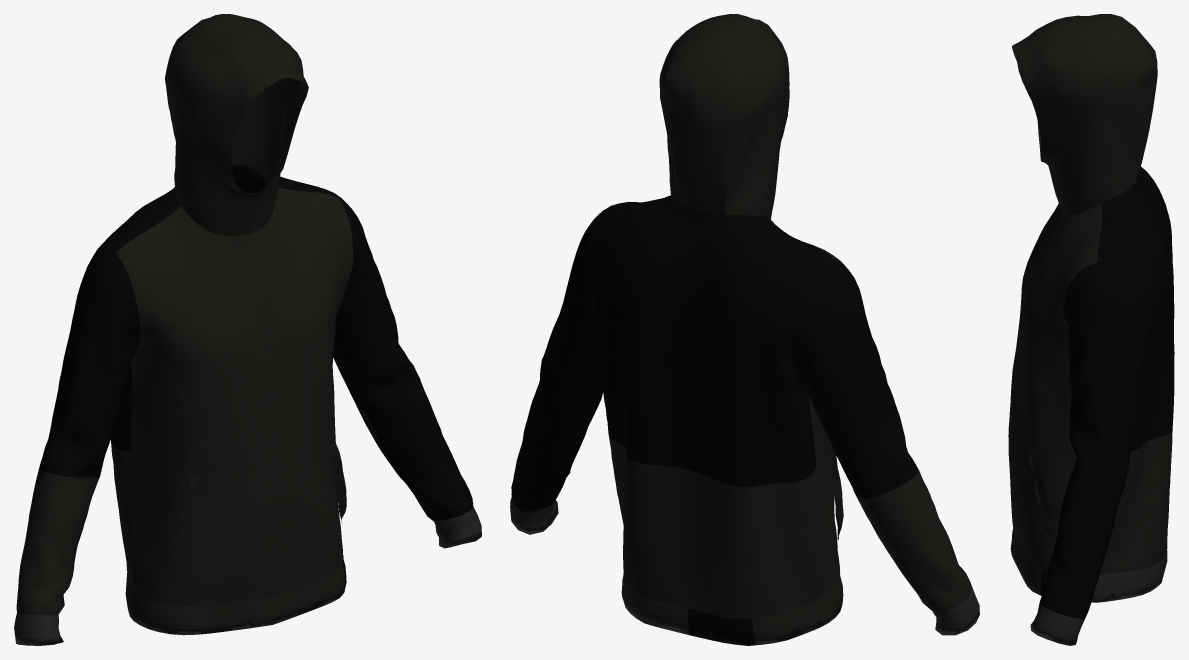
The model's file is SWEATSHIRT1.gltf.
3 renders of one model, left to right at view 1: azimuth 30°, elevation 25°; view 2: azimuth 150°, elevation 25°; view 3: azimuth 270°, elevation 25°, orthographic. The views are drawn at different scales.
Parts seen in each view (by area): view 1: Pattern_1301135, Pattern_1302524, Pattern_1302525, Pattern_1724221, Pattern_1303223, Pattern_1724222, Pattern_1299746, Pattern_1725890, Pattern_1303224, Pattern_1303225, Pattern_3171371, Pattern_3171373; view 2: Pattern_1299746, Pattern_1302524, Pattern_1302525, Pattern_1725890, Pattern_1724221, Pattern_1303223, Pattern_1301135, Pattern_1724222, Pattern_1303224, Pattern_1303225; view 3: Pattern_1302525, Pattern_1301135, Pattern_1299746, Pattern_1724222, Pattern_1725890, Pattern_1303223, Pattern_1303225.
Part boxes in pixels (x1,y1,x2,y2): Pattern_1301135: [116, 187, 352, 605]; Pattern_1302524: [16, 247, 140, 615]; Pattern_1302525: [333, 194, 473, 521]; Pattern_1724221: [165, 33, 263, 236]; Pattern_1303223: [125, 559, 346, 635]; Pattern_1724222: [231, 24, 308, 234]; Pattern_1299746: [96, 167, 339, 590]; Pattern_1725890: [178, 14, 296, 89]; Pattern_1303224: [14, 613, 63, 645]; Pattern_1303225: [434, 507, 481, 548]; Pattern_3171371: [159, 476, 199, 568]; Pattern_3171373: [329, 442, 346, 523]; Pattern_1299746: [585, 195, 836, 619]; Pattern_1302524: [802, 261, 971, 612]; Pattern_1302525: [511, 210, 603, 512]; Pattern_1725890: [666, 14, 772, 214]; Pattern_1724221: [725, 30, 789, 219]; Pattern_1303223: [621, 575, 843, 645]; Pattern_1301135: [767, 217, 842, 594]; Pattern_1724222: [659, 26, 693, 204]; Pattern_1303224: [932, 585, 979, 635]; Pattern_1303225: [510, 497, 558, 534]; Pattern_1302525: [1039, 262, 1152, 618]; Pattern_1301135: [1008, 203, 1102, 570]; Pattern_1299746: [1097, 166, 1174, 574]; Pattern_1724222: [1017, 41, 1152, 213]; Pattern_1725890: [1012, 14, 1157, 182]; Pattern_1303223: [1010, 529, 1167, 602]; Pattern_1303225: [1030, 603, 1084, 645].
Bounding box in the file's own units: 0.8312 × 1 × 0.2761.
Materials: 7 (7 with a texture image).
